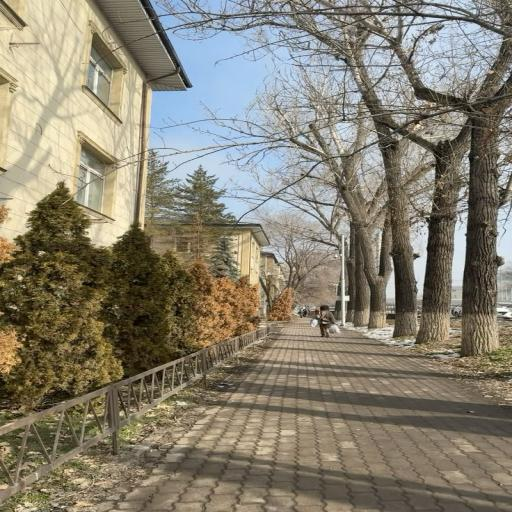laptop: (303, 300, 344, 342)
shelf: (41, 312, 511, 512)
